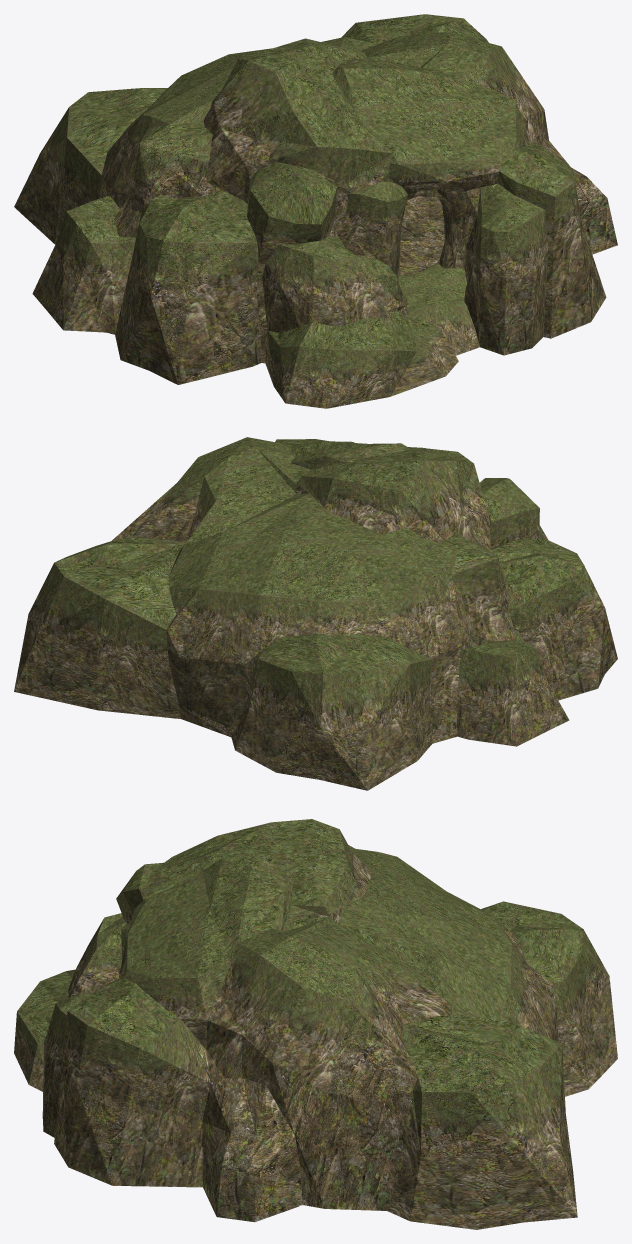
File: poi_all_bunker_mad_bio_s01_r0_mesh_l0.fbx
The picture shows the model from 3 angles, top to bottom: view 1: azimuth 30°, elevation 25°; view 2: azimuth 150°, elevation 25°; view 3: azimuth 270°, elevation 25°; orthographic projection. The views are drawn at different scales.
Parts seen in each view (by area): view 1: mesh_node; view 2: mesh_node; view 3: mesh_node.
Boxes of the visible parts, bbox=[...] form: mesh_node: bbox=[14, 14, 617, 408]; mesh_node: bbox=[14, 437, 617, 790]; mesh_node: bbox=[14, 819, 617, 1229].
Bounding box in the file's own units: 93.14 × 38.65 × 89.52.
